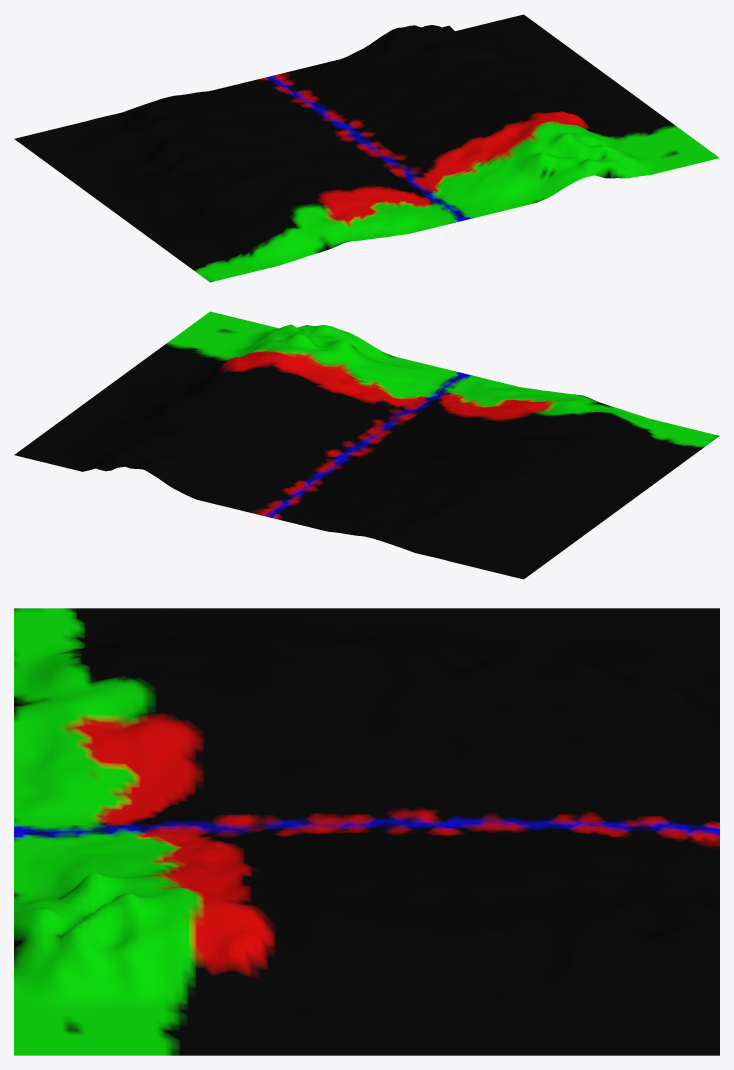
File: Terrain_LoopForest_Block_A_03.fbx
3 views of the same model, one above another, from view 1: azimuth 30°, elevation 25°; view 2: azimuth 150°, elevation 25°; view 3: azimuth 270°, elevation 25° (orthographic). The views are drawn at different scales.
Parts seen in each view (by area): view 1: Terrain_LoopForest_Block_A_03; view 2: Terrain_LoopForest_Block_A_03; view 3: Terrain_LoopForest_Block_A_03.
Boxes of the visible parts, x1=… form: Terrain_LoopForest_Block_A_03: x1=14, y1=14, x2=719, y2=282; Terrain_LoopForest_Block_A_03: x1=14, y1=311, x2=719, y2=579; Terrain_LoopForest_Block_A_03: x1=14, y1=608, x2=719, y2=1055.
Bounding box in the file's own units: 30000 × 1733 × 20000.
